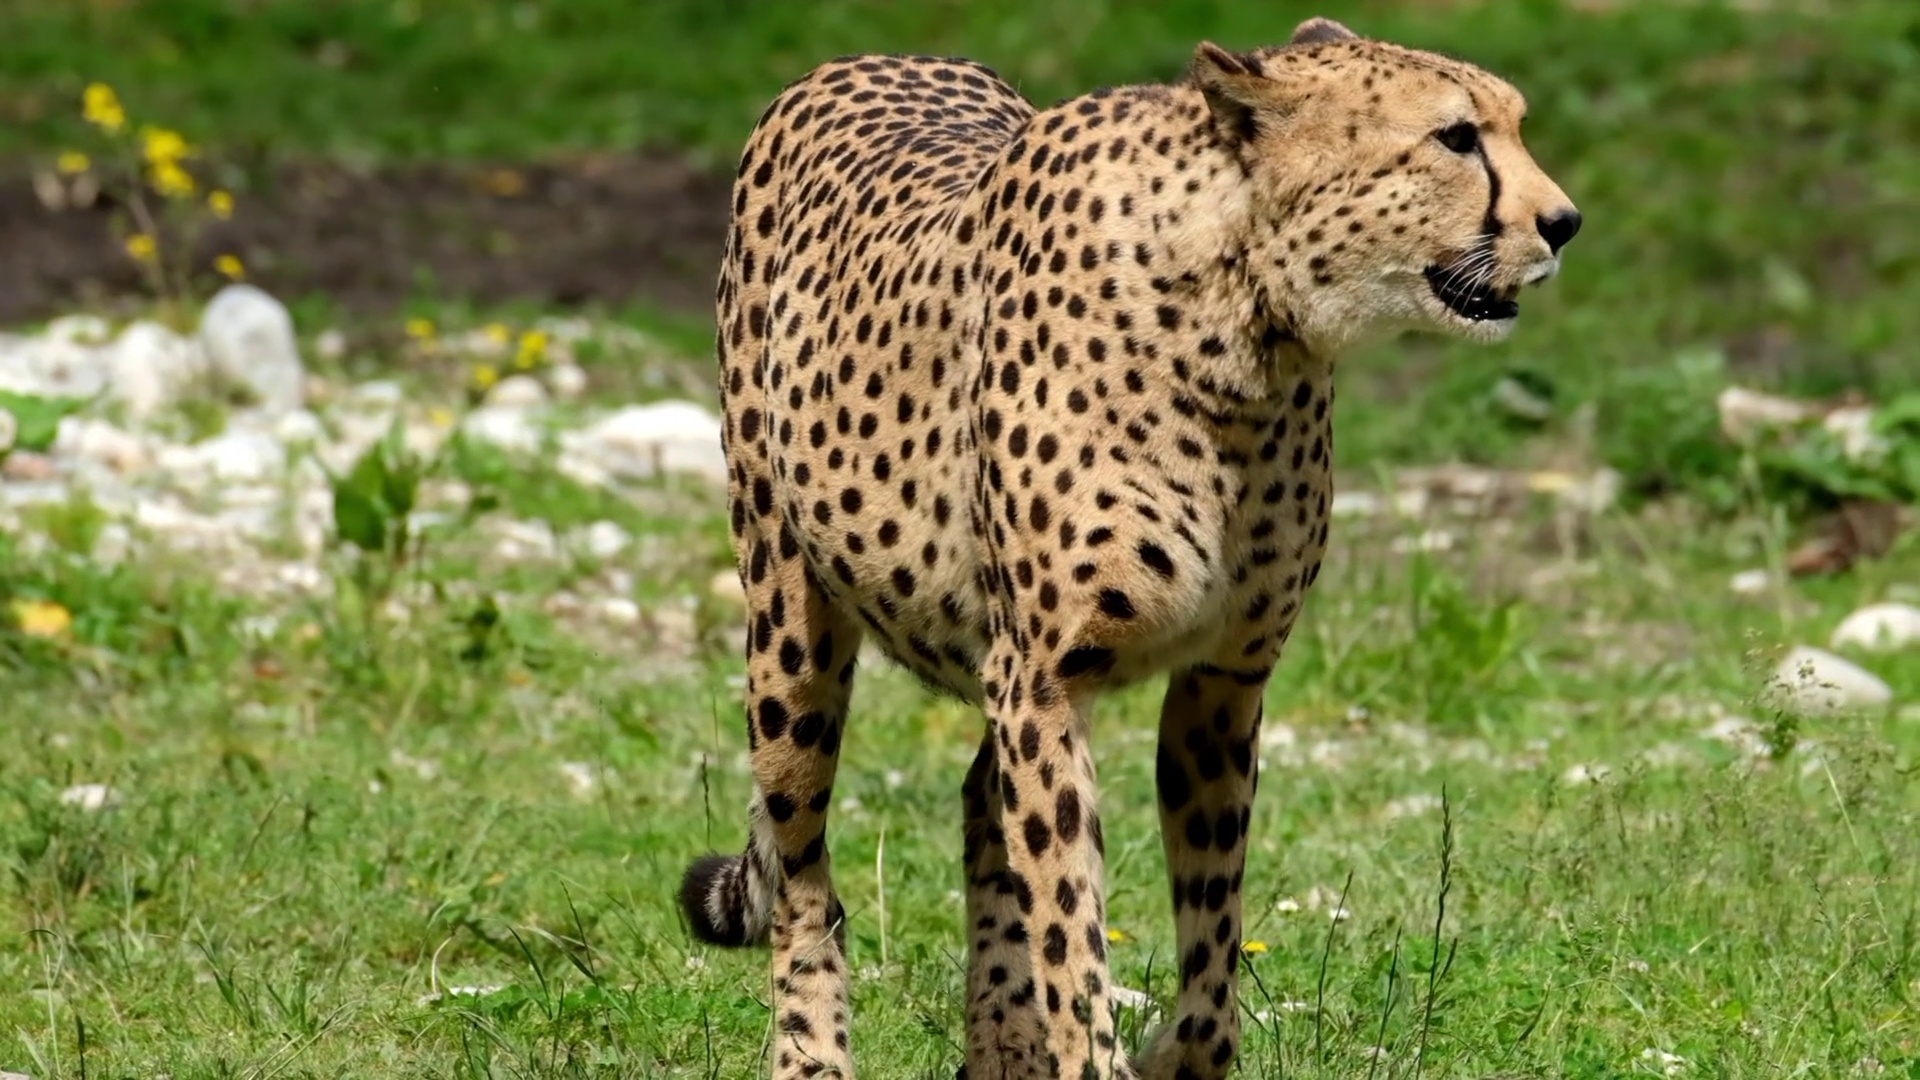Cheetah: (674, 15, 1582, 1080)
